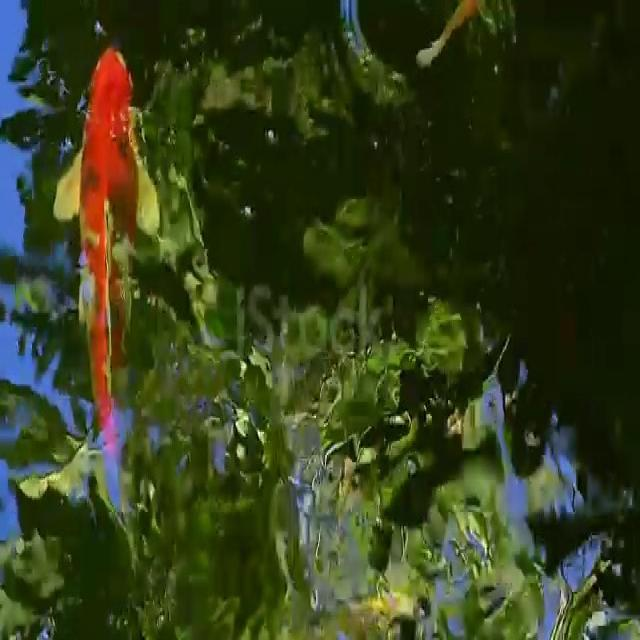fish: (40, 35, 192, 569)
